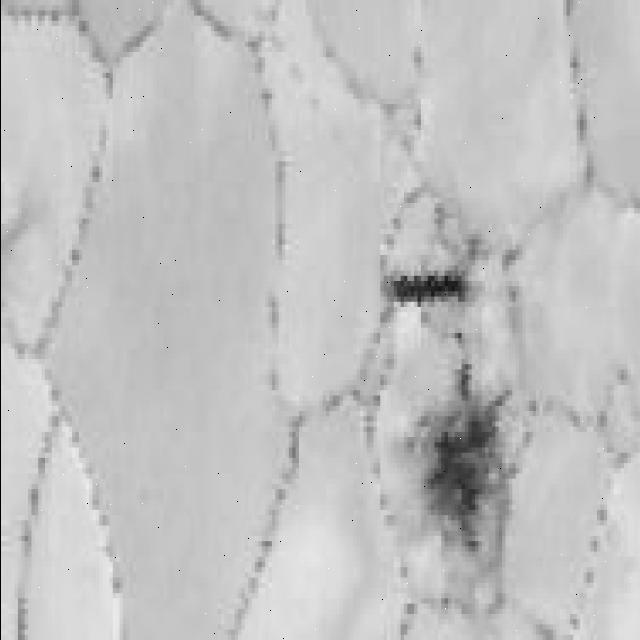good_void: (407, 390, 519, 556), (386, 268, 468, 307), (453, 357, 475, 399), (452, 327, 465, 343)
